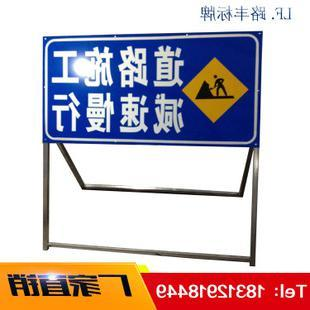sign: (43, 33, 258, 144)
